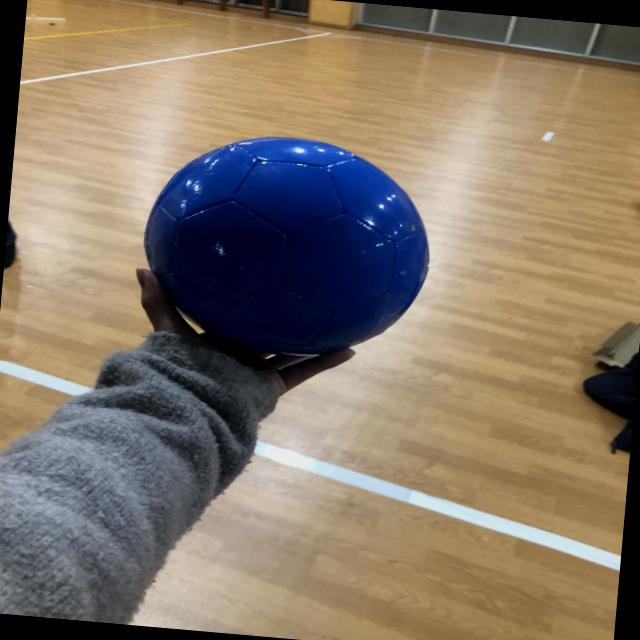blue_ball: (128, 120, 434, 358)
